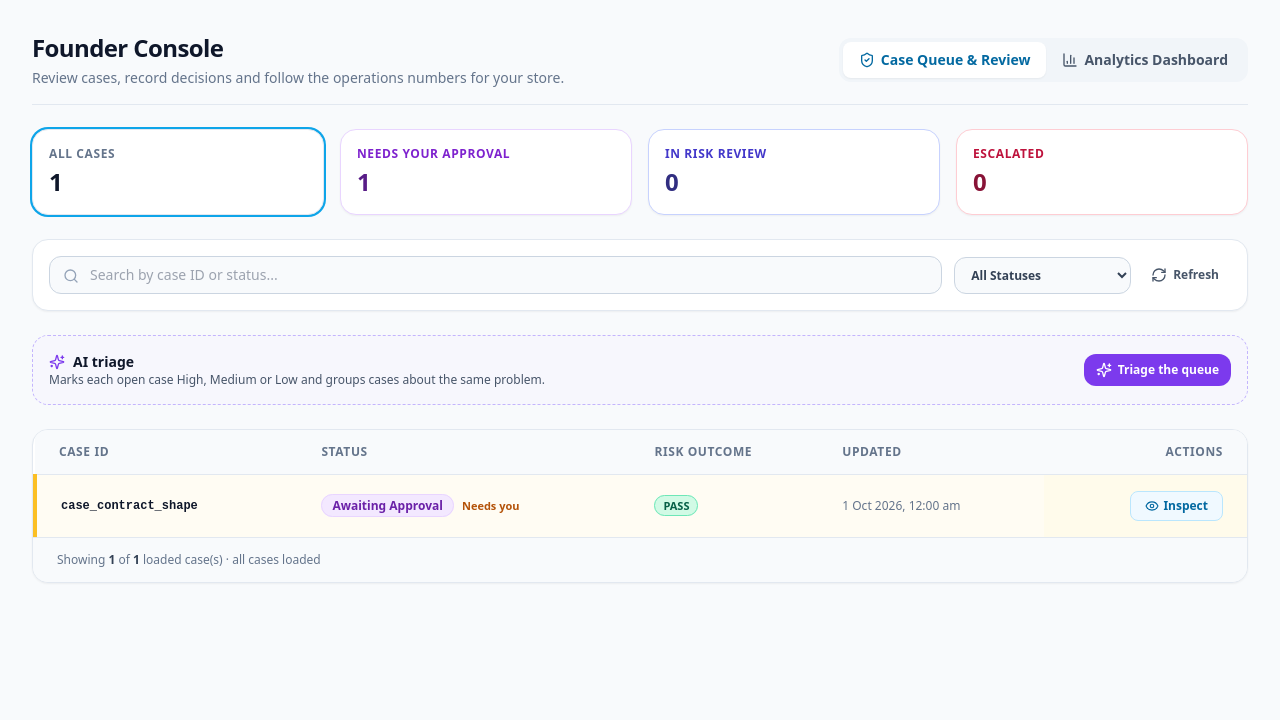
Test: FounderConsole failure and live-mode paths › live mode: shows a server refusal in the dialog and does not treat it as success
Click the button "Inspect": (1177, 506) top-left (1130, 491), bottom-right (1223, 521)
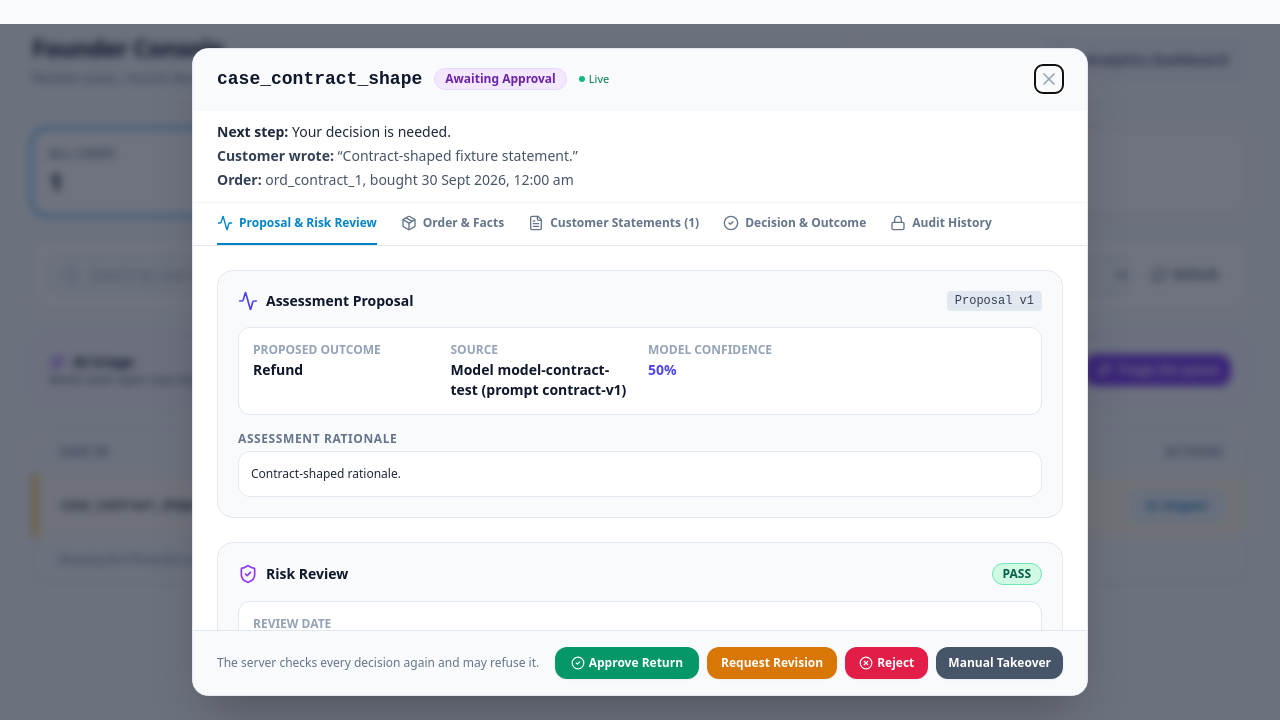
Click the button "Reject": (887, 663) top-left (845, 647), bottom-right (928, 679)
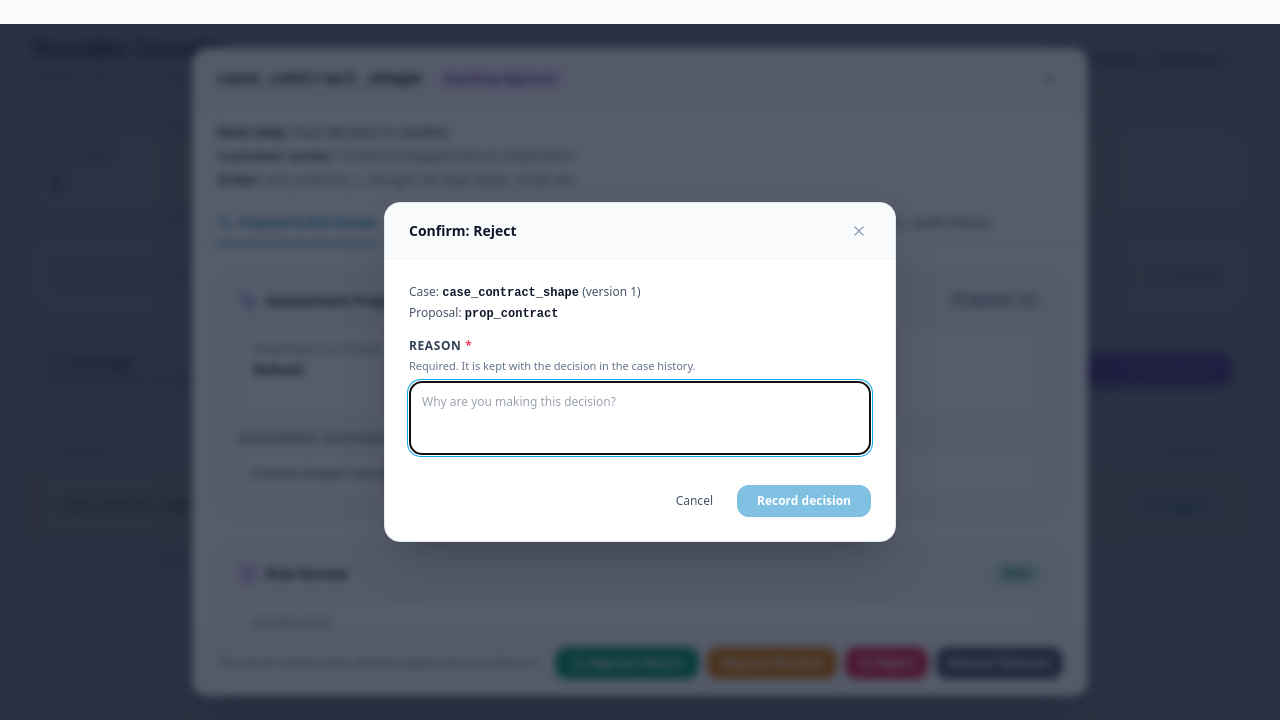
In the text box with placeholder "Why are you making this decision?": (640, 418) top-left (409, 381), bottom-right (871, 455), type "Outside the policy window."
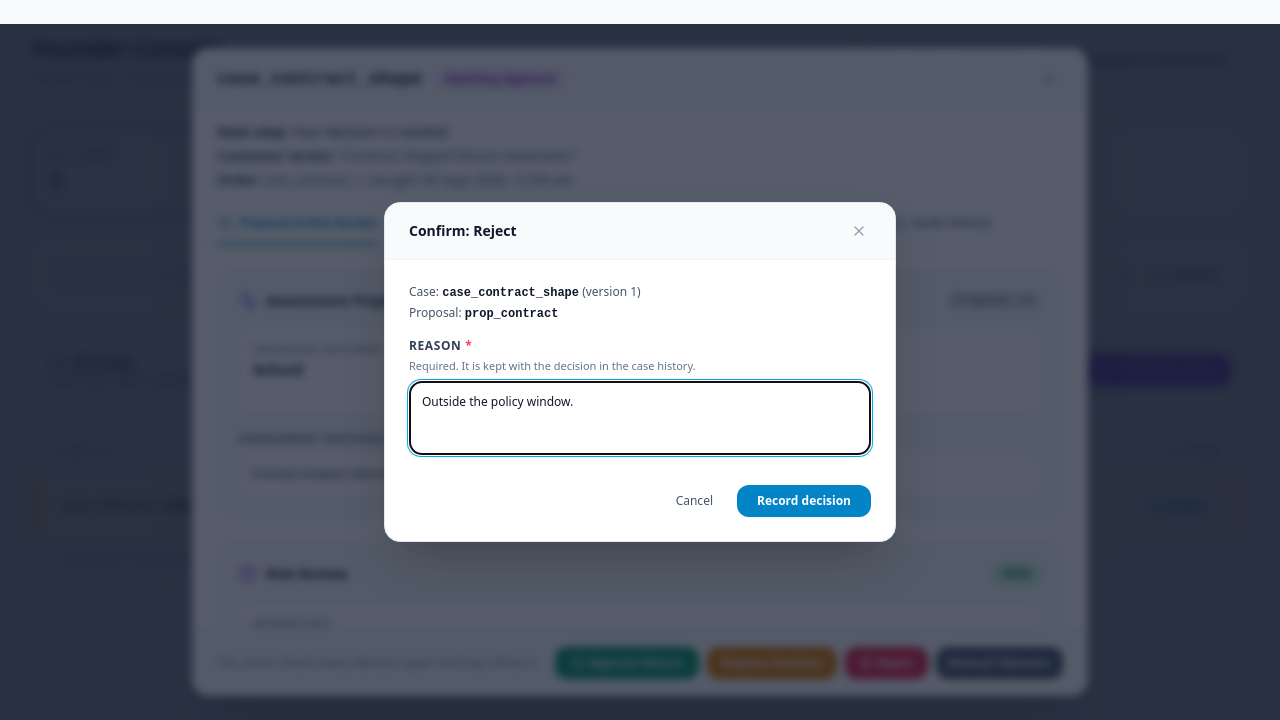
Click the button "Record decision": (804, 501) top-left (737, 485), bottom-right (871, 517)
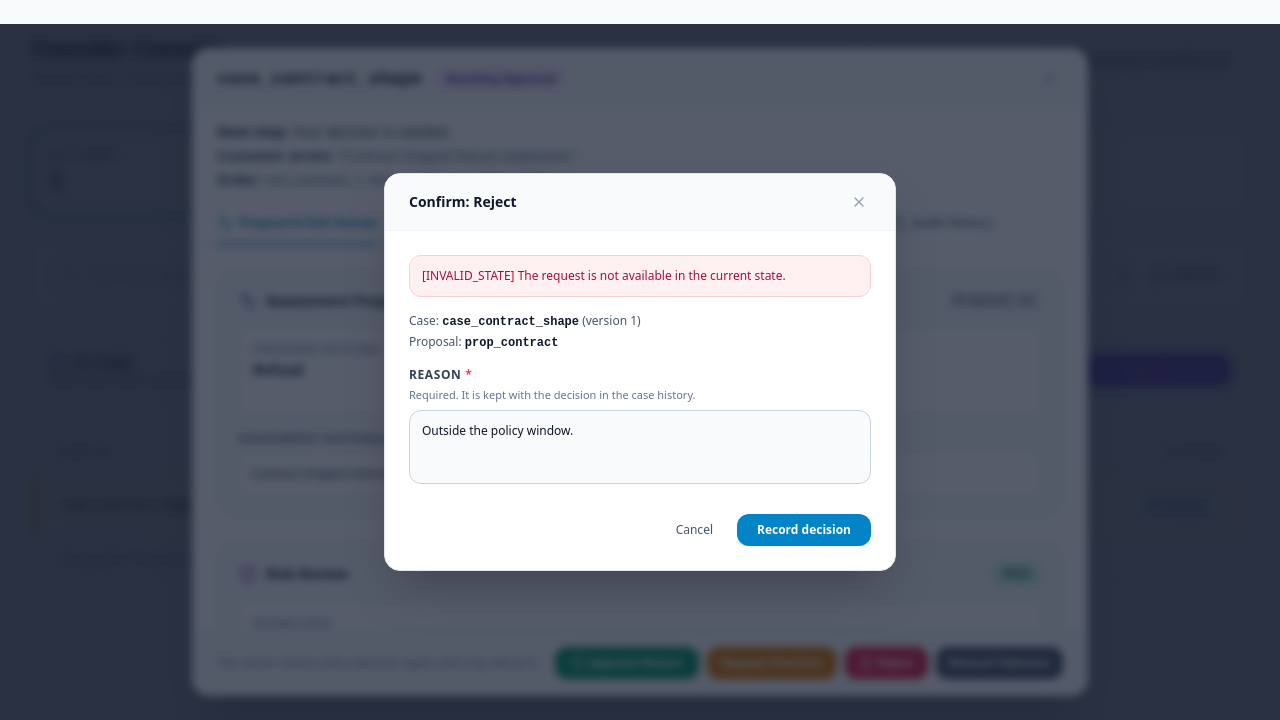
Check: the heading "Confirm: Reject" is shown, box top-left (409, 192), bottom-right (517, 212)
Check: the text "[INVALID_STATE] The request is not available in the current state." is shown, box top-left (409, 255), bottom-right (871, 297)
